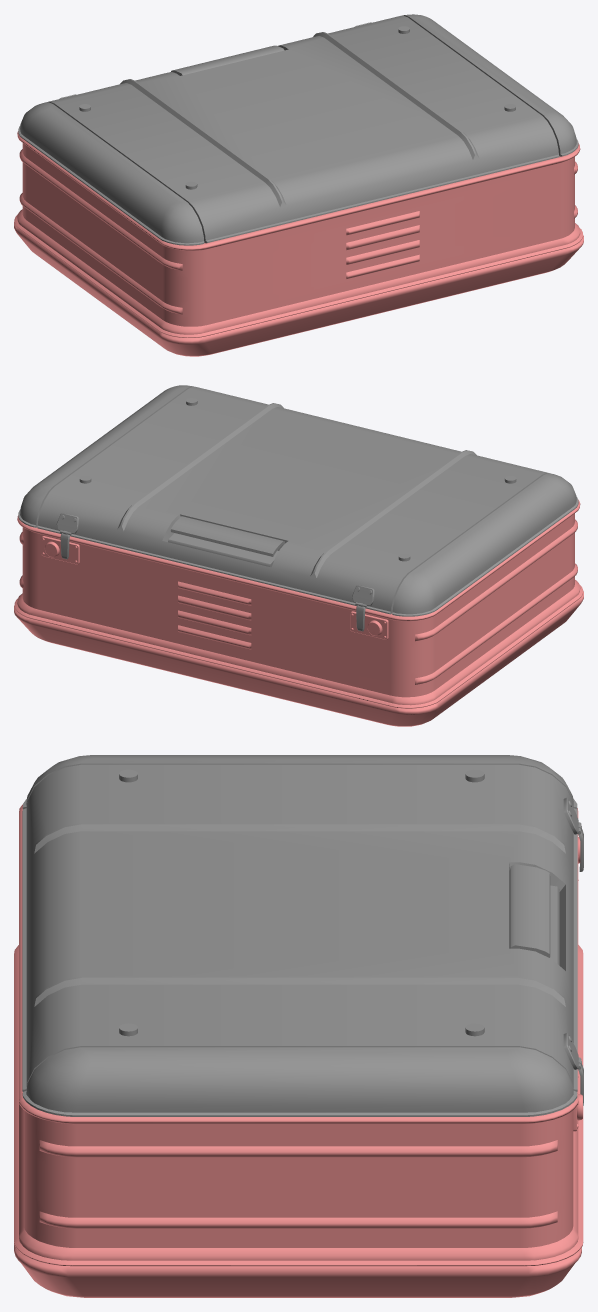
The model's file is SM_Cargo.gltf.
3 renders of one model, top to bottom at view 1: azimuth 30°, elevation 25°; view 2: azimuth 150°, elevation 25°; view 3: azimuth 270°, elevation 25°, orthographic. The views are drawn at different scales.
Visible parts, largest first — view 1: SM_Cargo; view 2: SM_Cargo; view 3: SM_Cargo.
Part boxes in pixels (left/top/right/bottom): SM_Cargo: left=14, top=14, right=583, bottom=356; SM_Cargo: left=14, top=385, right=583, bottom=726; SM_Cargo: left=14, top=755, right=583, bottom=1297.
Bounding box in the file's own units: 0.6386 × 0.2153 × 0.4594.
